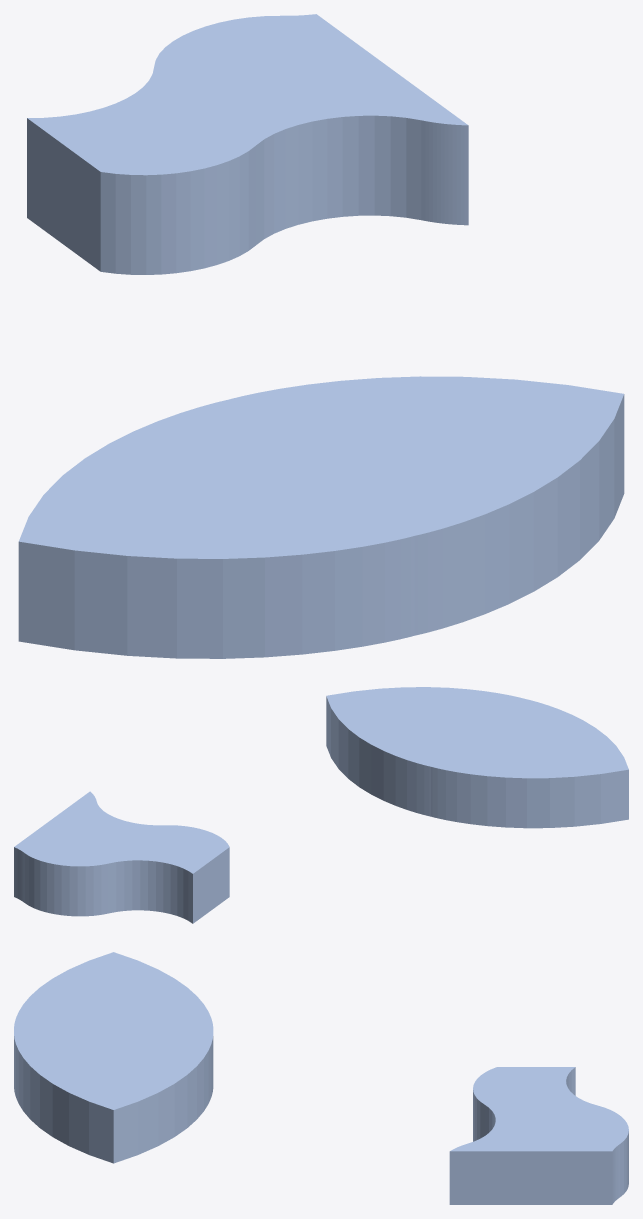
The model's file is 2_door__details.obj.
The picture shows the model from 3 angles, top to bottom: view 1: azimuth 30°, elevation 25°; view 2: azimuth 150°, elevation 25°; view 3: azimuth 270°, elevation 25°; orthographic projection. The views are drawn at different scales.
Visible parts, largest first — view 1: 2_door__details; view 2: 2_door__details; view 3: 2_door__details.
Boxes of the visible parts, bbox=[...] form: 2_door__details: bbox=[18, 14, 624, 658]; 2_door__details: bbox=[14, 687, 628, 923]; 2_door__details: bbox=[14, 952, 628, 1204].
Size of the model in its own units: 0.0385 by 0.00481 by 0.0501.
